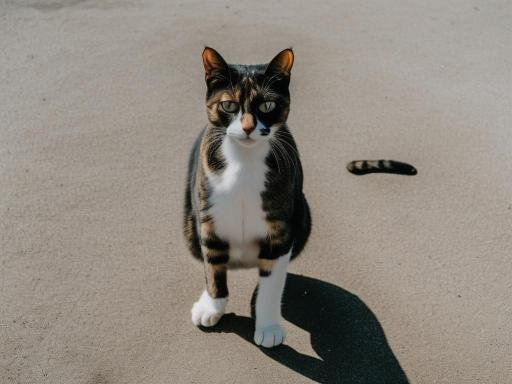cat_sitting: (184, 47, 311, 347)
